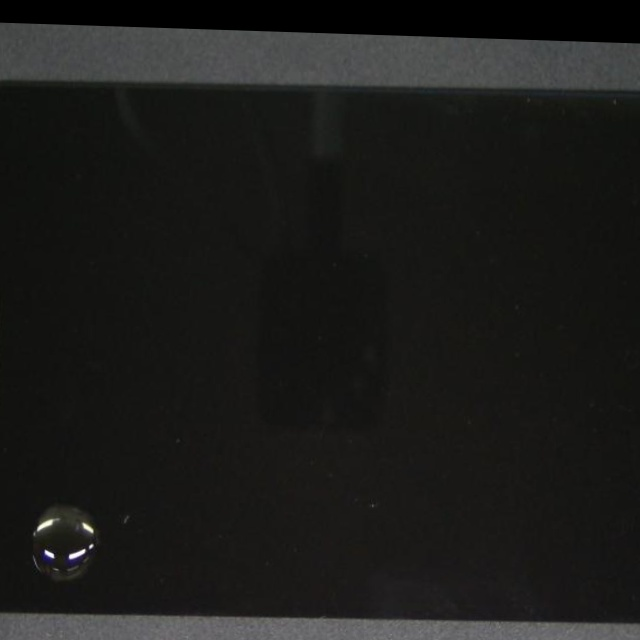oil: (40, 284, 168, 640)
